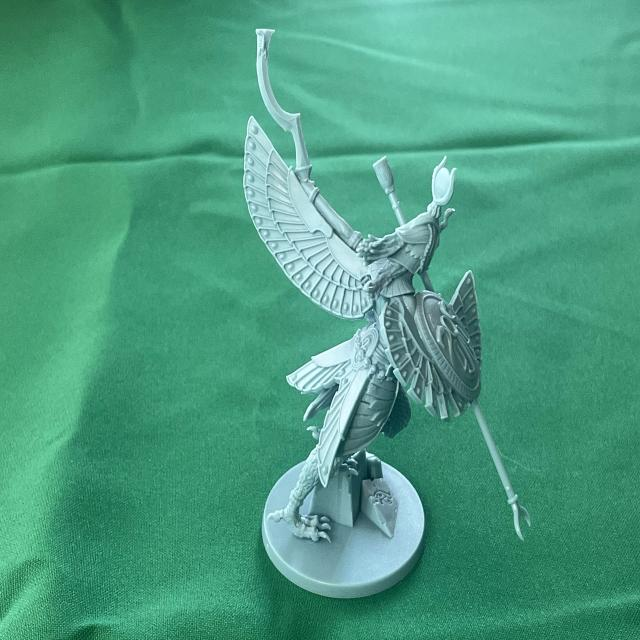isis: (236, 17, 535, 612)
